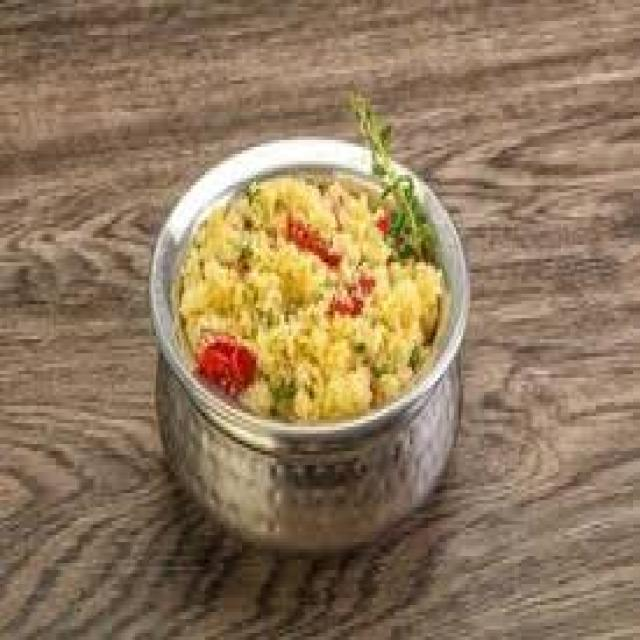UPMA: (175, 171, 442, 420)
